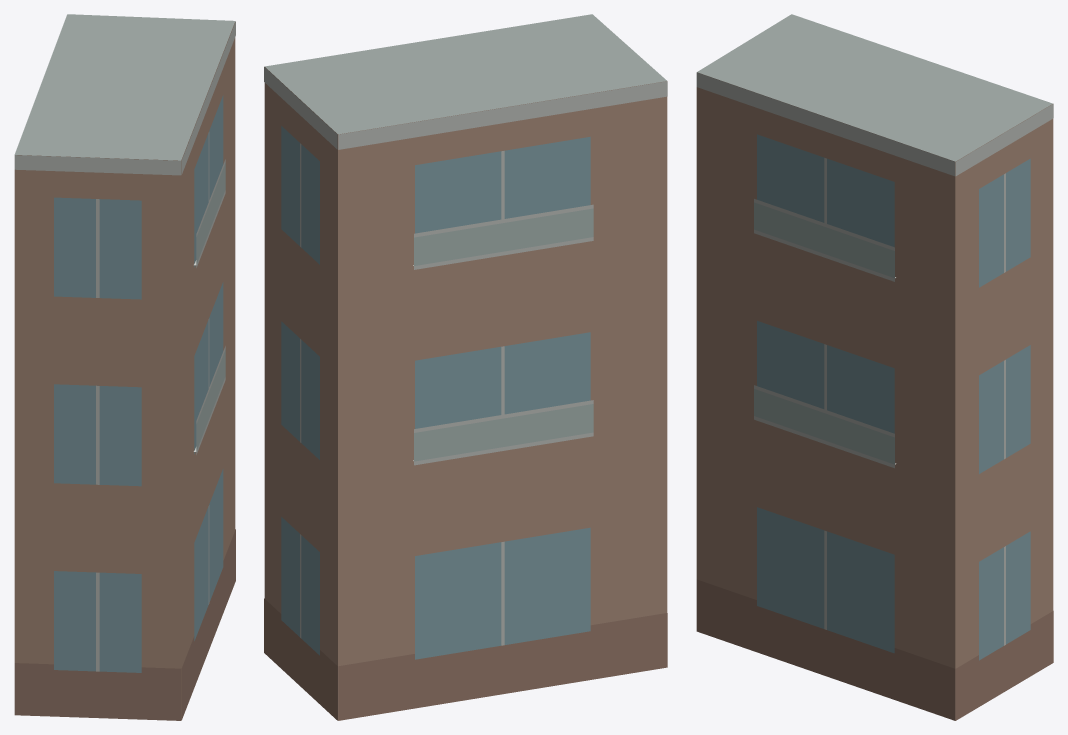
File: survey-upis-32485310.glb
3 views of the same model, side by side, from view 1: azimuth 30°, elevation 25°; view 2: azimuth 150°, elevation 25°; view 3: azimuth 270°, elevation 25° (orthographic). The views are drawn at different scales.
Parts seen in each view (by area): view 1: survey-upis-32485310.tmp; view 2: survey-upis-32485310.tmp; view 3: survey-upis-32485310.tmp.
Boxes of the visible parts, left/top/right/bottom form: survey-upis-32485310.tmp: left=14, top=14, right=235, bottom=720; survey-upis-32485310.tmp: left=264, top=14, right=667, bottom=720; survey-upis-32485310.tmp: left=696, top=14, right=1053, bottom=720.
Bounding box in the file's own units: 5.19 × 9.15 × 5.3.
